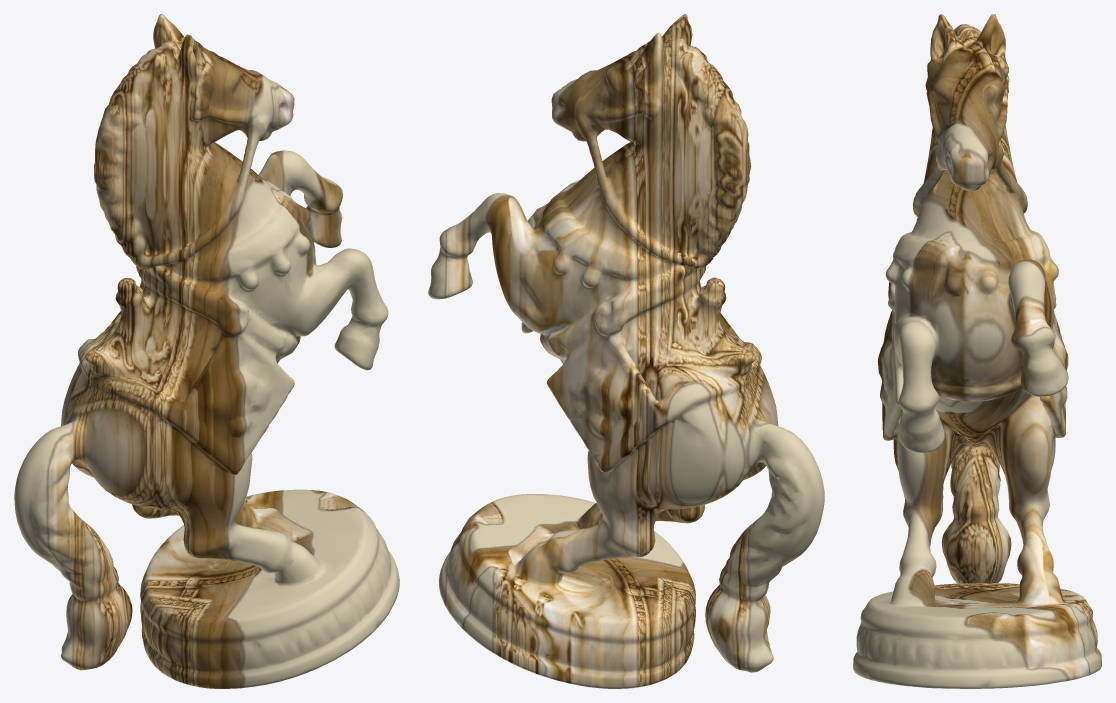
Rendered from ashva.glb.
3 views of the same model, side by side, from view 1: azimuth 30°, elevation 25°; view 2: azimuth 150°, elevation 25°; view 3: azimuth 270°, elevation 25° (orthographic).
Visible parts, largest first — view 1: geometry_0; view 2: geometry_0; view 3: geometry_0.
Part boxes in pixels (<box>): geometry_0: <box>14,14,399,688</box>; geometry_0: <box>428,14,824,688</box>; geometry_0: <box>853,14,1101,688</box>.
Size of the model in its own units: 1.21 by 2.04 by 0.7217.
Materials: 1 (1 with a texture image).
